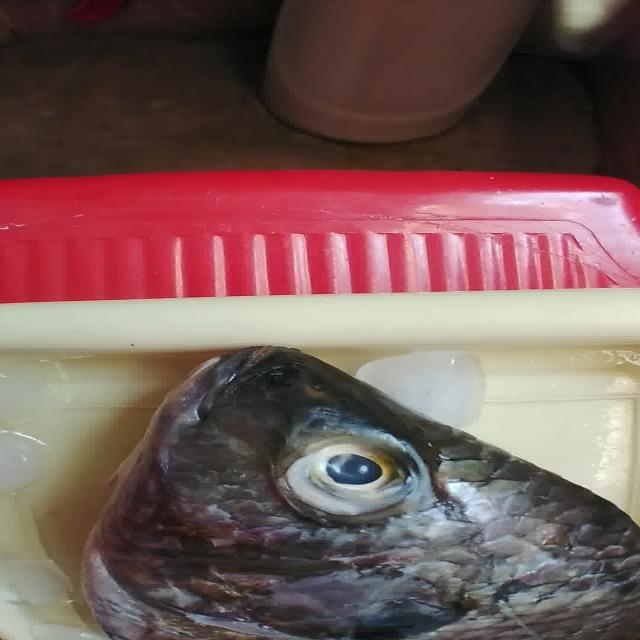Fresh: (281, 429, 432, 518)
